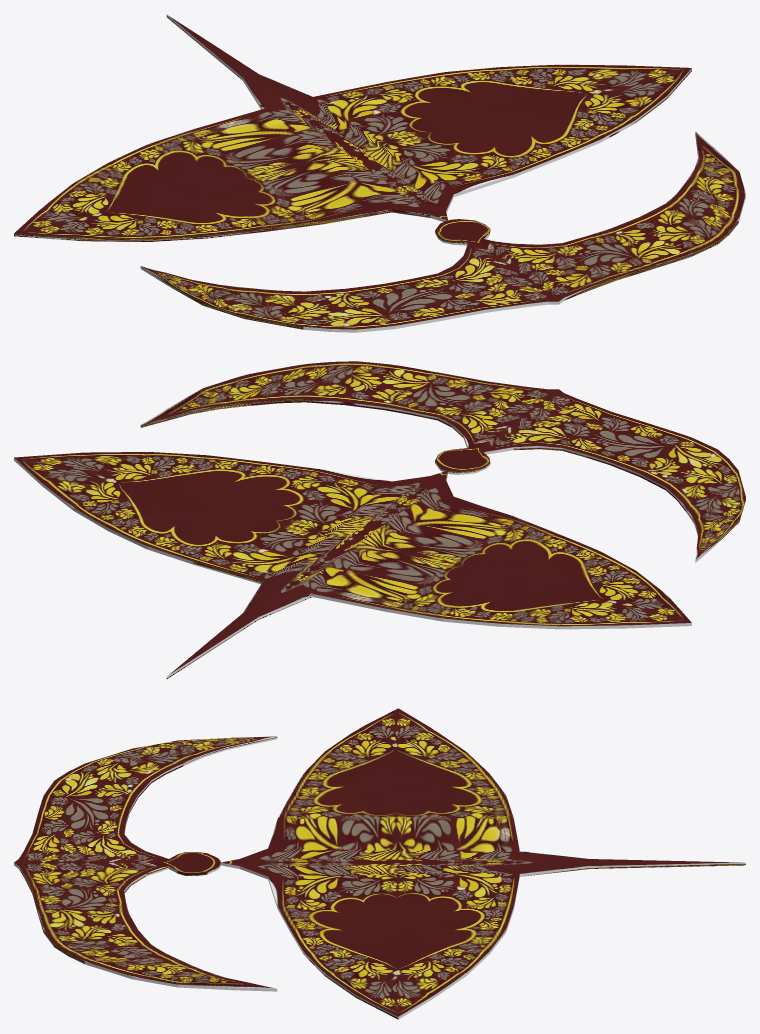
The model's file is wau bulan #3.fbx.
3 renders of one model, top to bottom at view 1: azimuth 30°, elevation 25°; view 2: azimuth 150°, elevation 25°; view 3: azimuth 270°, elevation 25°, orthographic. The views are drawn at different scales.
Visible parts, largest first — view 1: Cube.001; view 2: Cube.001; view 3: Cube.001.
Part boxes in pixels (x1=…): Cube.001: x1=14, y1=14, x2=745, y2=332; Cube.001: x1=14, y1=361, x2=745, y2=679; Cube.001: x1=14, y1=708, x2=745, y2=1019.
Size of the model in its own units: 4.6 by 4.58 by 0.02.
